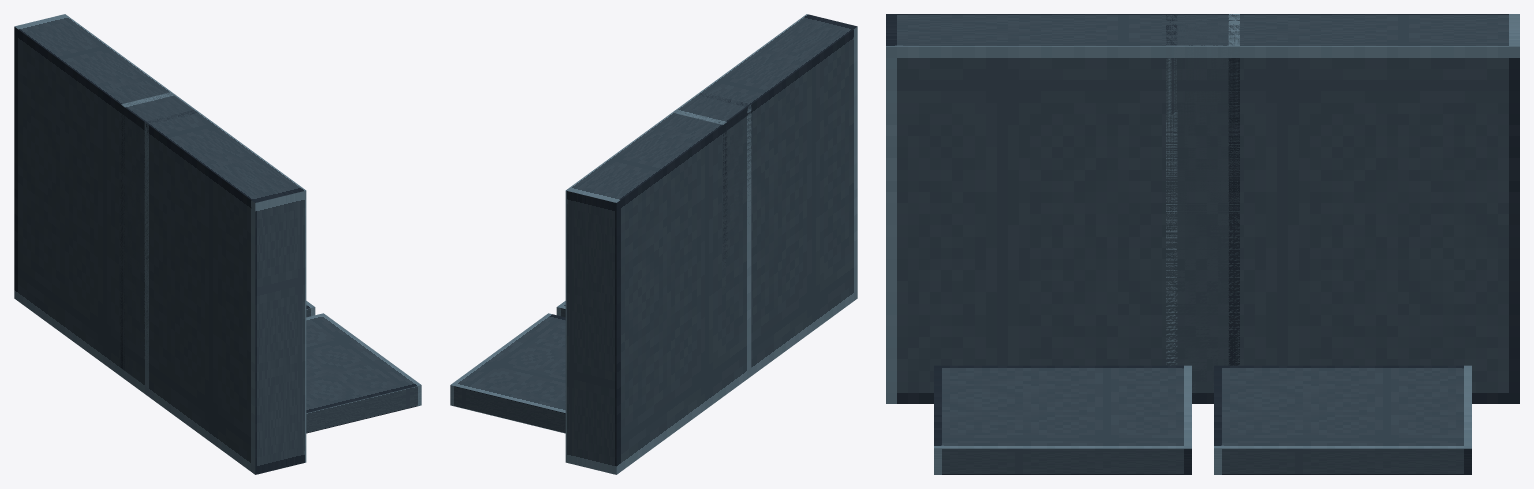
File: bench_boots_2.obj
3 views of the same model, side by side, from view 1: azimuth 30°, elevation 25°; view 2: azimuth 150°, elevation 25°; view 3: azimuth 270°, elevation 25° (orthographic). The views are drawn at different scales.
Parts seen in each view (by area): view 1: geometry; view 2: geometry; view 3: geometry.
Part boxes in pixels (<box>): geometry: <box>14,14,421,474</box>; geometry: <box>450,14,857,474</box>; geometry: <box>886,14,1519,474</box>.
Size of the model in its own units: 0.1776 by 0.25 by 0.4019.
